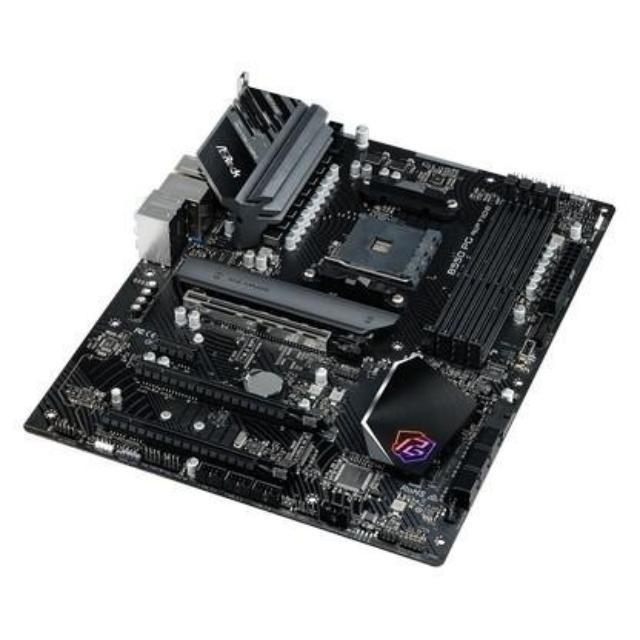Mainboard: (24, 61, 624, 574)
